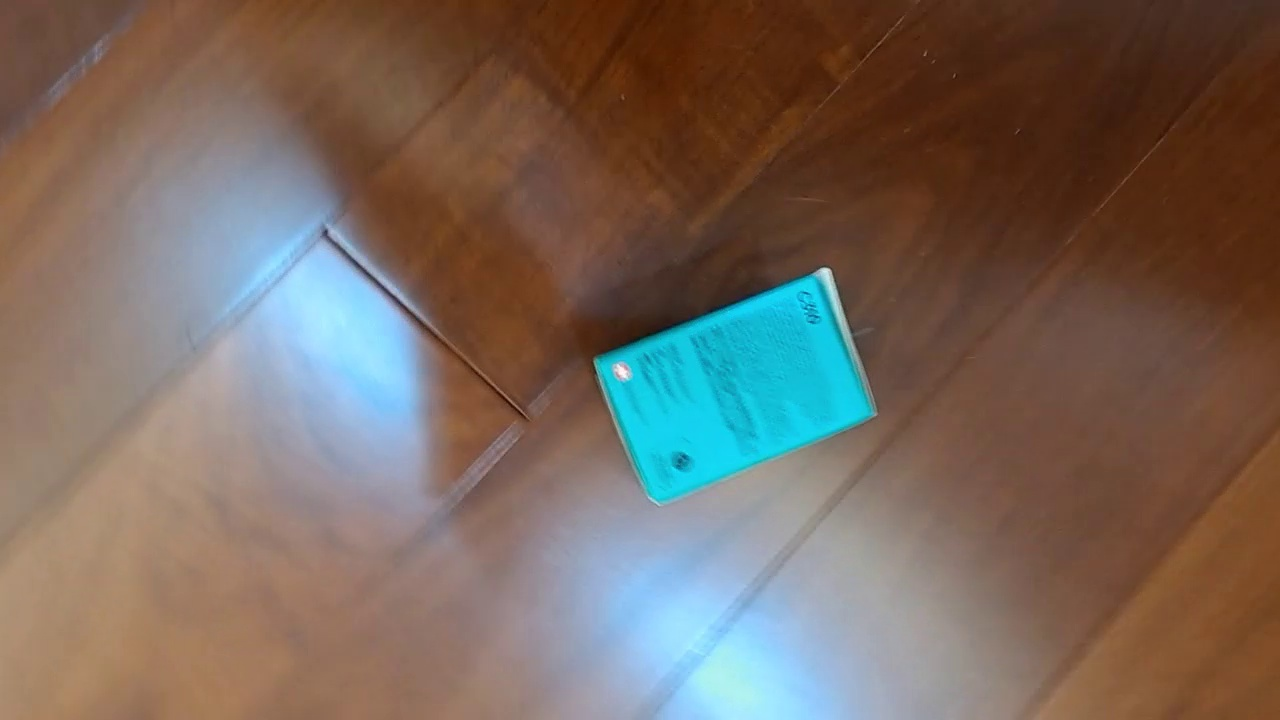webcam: (592, 266, 878, 508)
